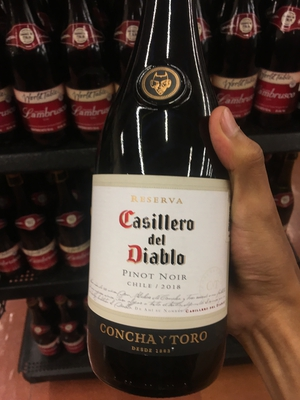casillero del diablo pinot noir: (85, 15, 245, 372)
